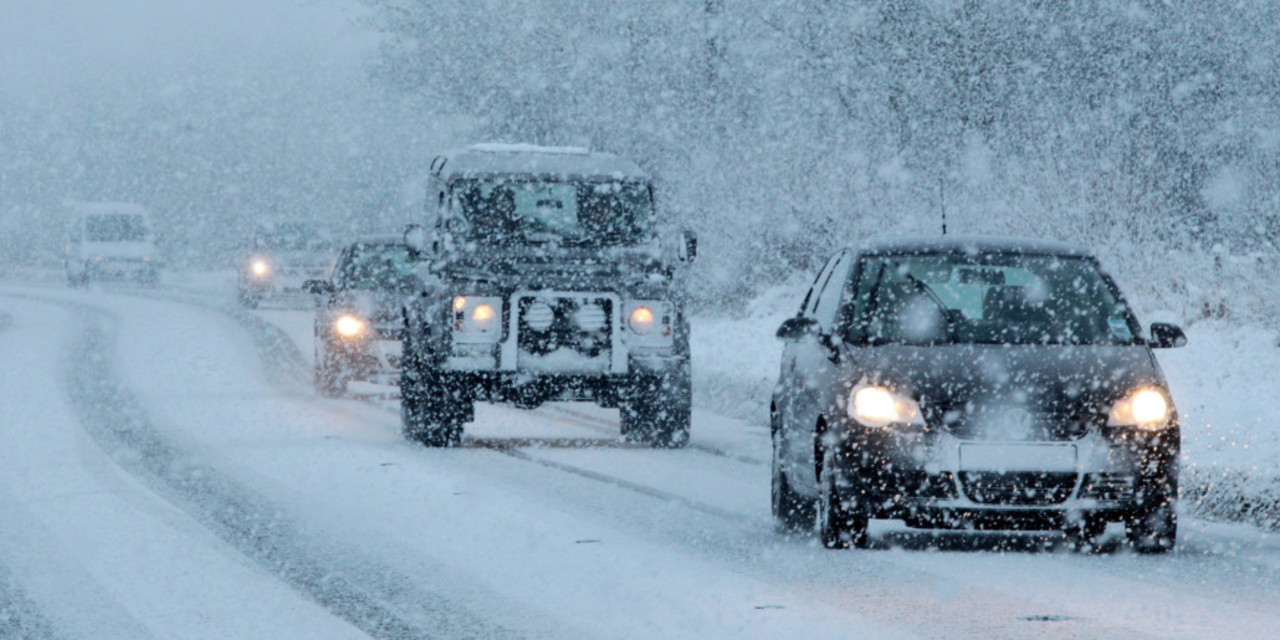car: (760, 240, 1194, 553), (411, 160, 692, 448), (317, 237, 419, 404), (237, 210, 344, 310), (55, 198, 164, 291)
